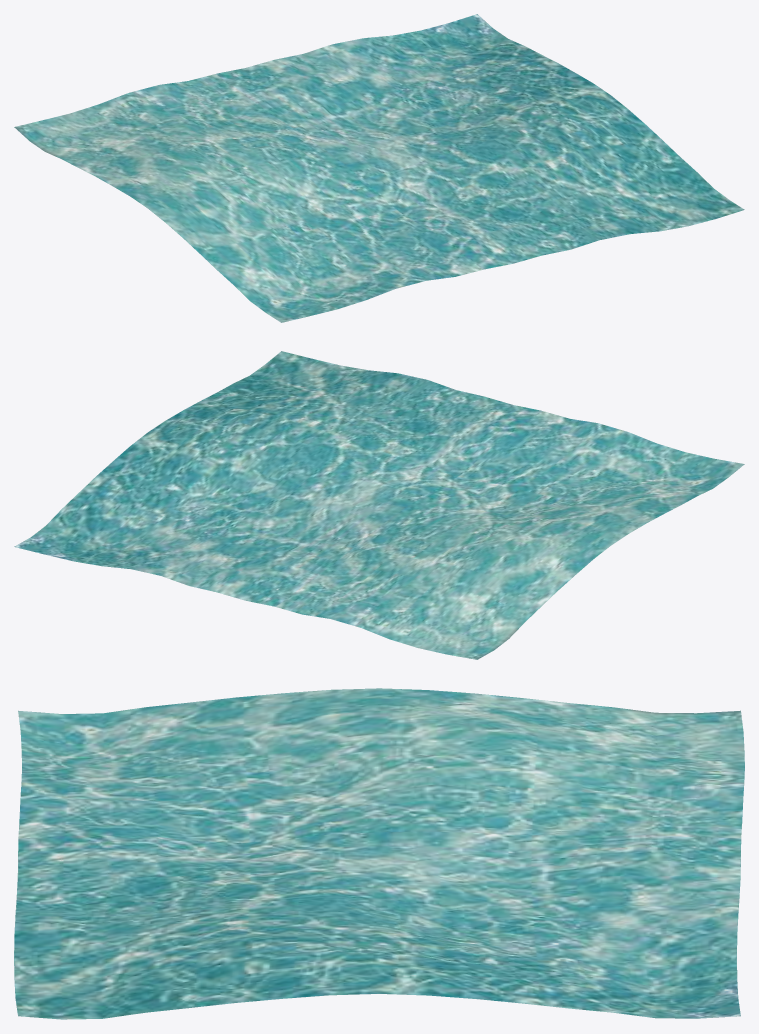
Rendered from water_000003.obj.
The picture shows the model from 3 angles, top to bottom: view 1: azimuth 30°, elevation 25°; view 2: azimuth 150°, elevation 25°; view 3: azimuth 270°, elevation 25°; orthographic projection. The views are drawn at different scales.
Visible parts, largest first — view 1: Plan.003_Plan.001; view 2: Plan.003_Plan.001; view 3: Plan.003_Plan.001.
Boxes of the visible parts, <box> form: Plan.003_Plan.001: <box>14,14,744,322</box>; Plan.003_Plan.001: <box>14,351,744,659</box>; Plan.003_Plan.001: <box>14,688,744,1019</box>.
Size of the model in its own units: 60511 by 3164 by 61011.
1 material, 1 textured.
